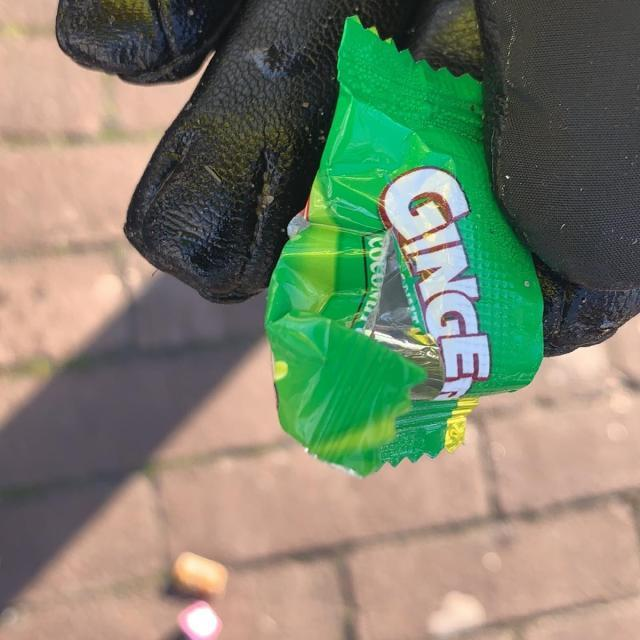Plastic: (262, 10, 550, 482)
